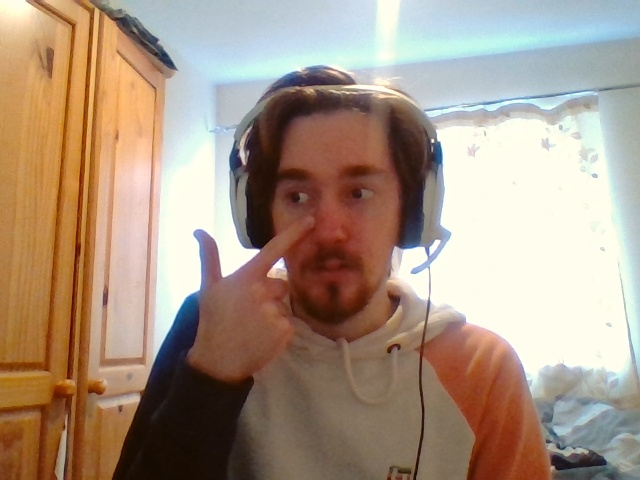luck: (194, 216, 314, 359)
